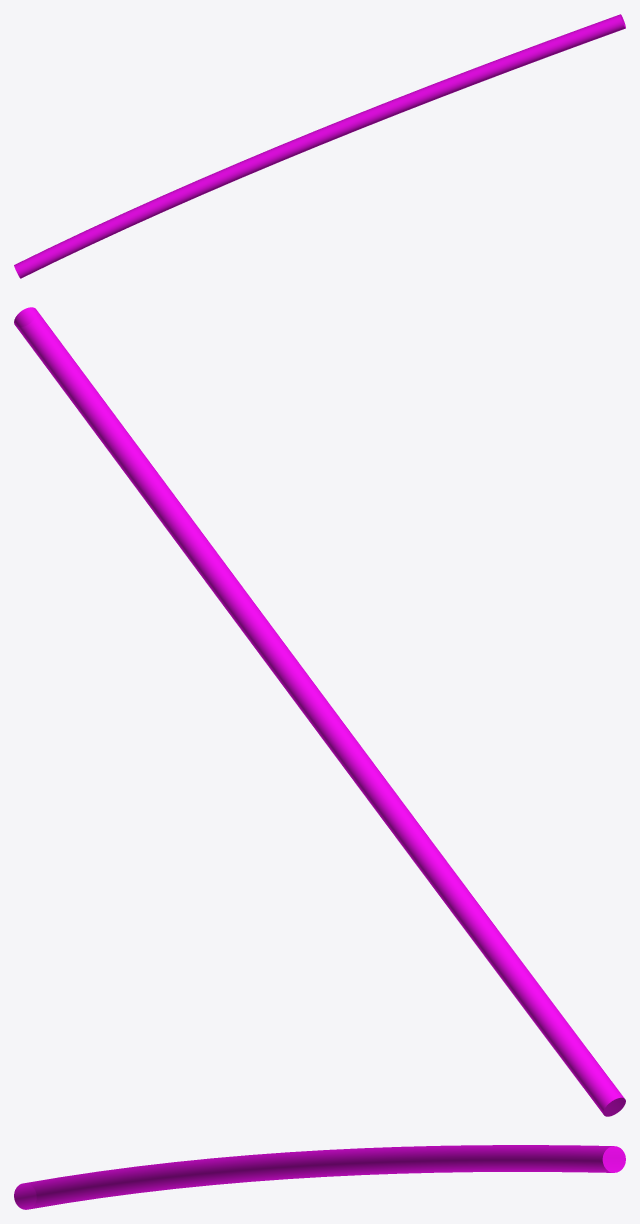
The model's file is Event_421364160_electron_0.fbx.
3 renders of one model, top to bottom at view 1: azimuth 30°, elevation 25°; view 2: azimuth 150°, elevation 25°; view 3: azimuth 330°, elevation 25°, orthographic. The views are drawn at different scales.
Visible parts, largest first — view 1: Model; view 2: Model; view 3: Model.
Boxes of the visible parts, <box> form: Model: <box>14,14,625,278</box>; Model: <box>14,307,625,1116</box>; Model: <box>14,1145,625,1209</box>.
Bounding box in the file's own units: 1.45 × 0.7159 × 0.7466.
